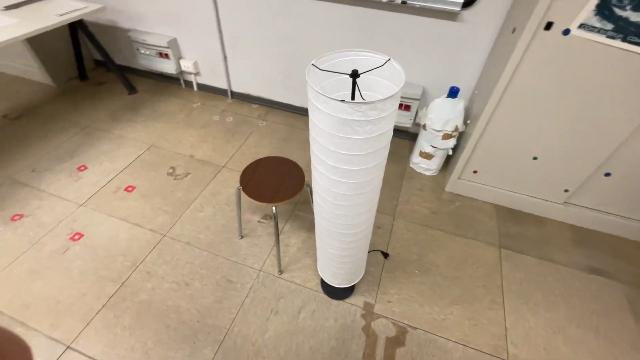Lamp: (300, 45, 410, 305)
Stool: (231, 151, 315, 278)
